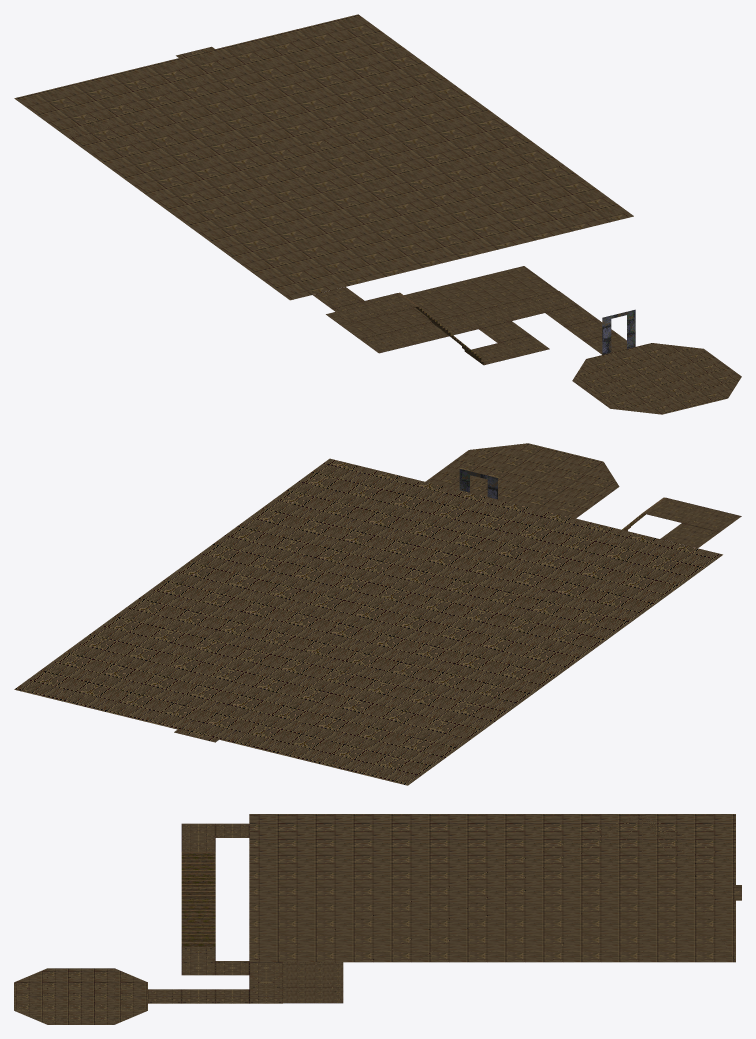
File: IglesiaSuelo.fbx
The picture shows the model from 3 angles, top to bottom: view 1: azimuth 30°, elevation 25°; view 2: azimuth 150°, elevation 25°; view 3: azimuth 270°, elevation 25°; orthographic projection. The views are drawn at different scales.
Visible parts, largest first — view 1: SueloCompleto; view 2: SueloCompleto; view 3: SueloCompleto.
Part boxes in pixels (bbox=[...]): SueloCompleto: bbox=[14, 14, 741, 414]; SueloCompleto: bbox=[14, 443, 741, 785]; SueloCompleto: bbox=[14, 814, 741, 1024].
Size of the model in its own units: 2929 by 608 by 6086.
